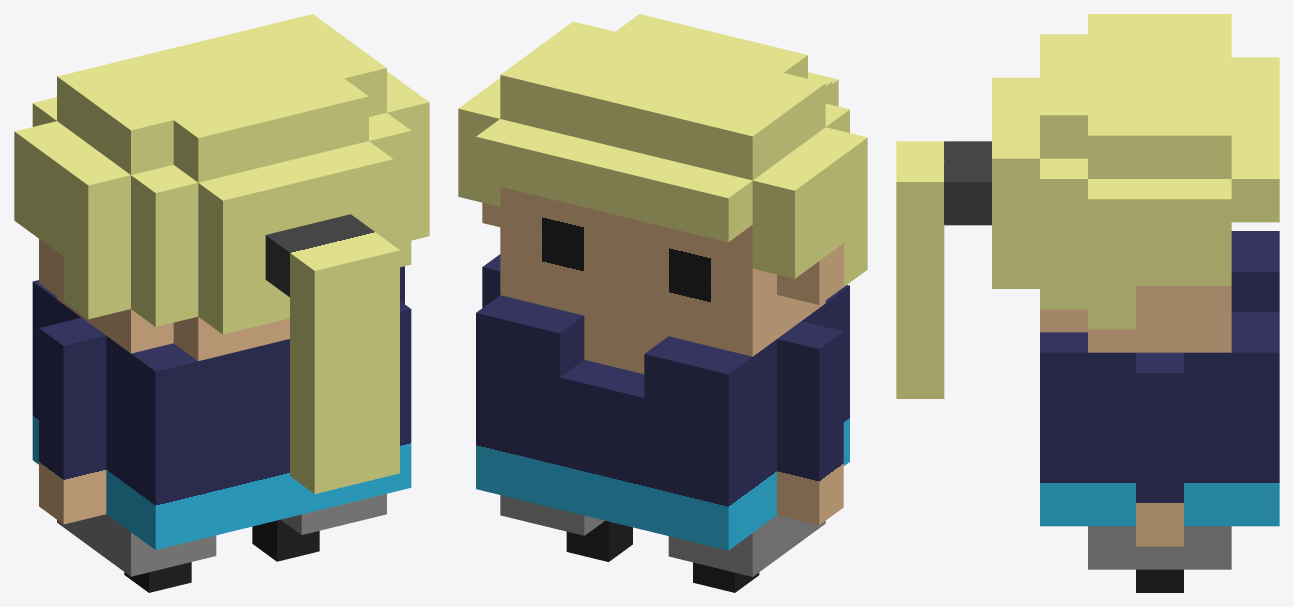
File: chr_ponytail2.dae
3 renders of one model, left to right at view 1: azimuth 30°, elevation 25°; view 2: azimuth 150°, elevation 25°; view 3: azimuth 270°, elevation 25°, orthographic. The views are drawn at different scales.
Parts seen in each view (by area): view 1: chr_ponytail2; view 2: chr_ponytail2; view 3: chr_ponytail2.
Part boxes in pixels (<box>): chr_ponytail2: <box>14,14,429,592</box>; chr_ponytail2: <box>458,14,867,592</box>; chr_ponytail2: <box>896,14,1279,592</box>.
Size of the model in its own units: 0.8 by 0.8 by 1.1.
1 material, 1 textured.
